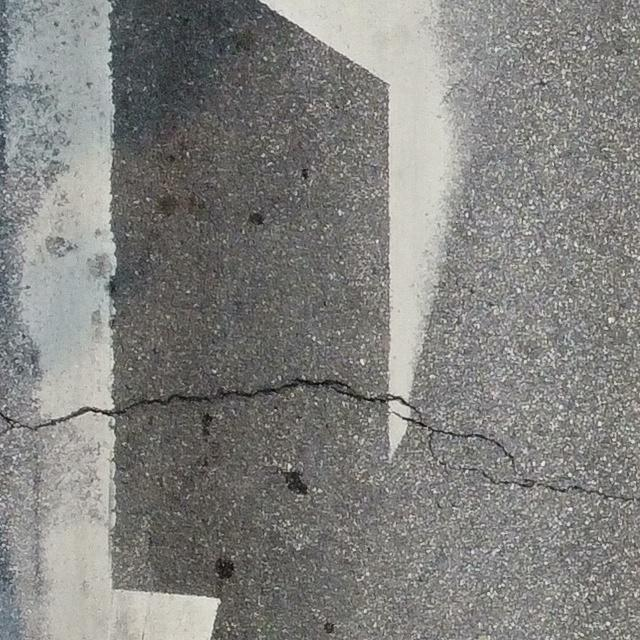TransverseCrack: (1, 378, 637, 503)
